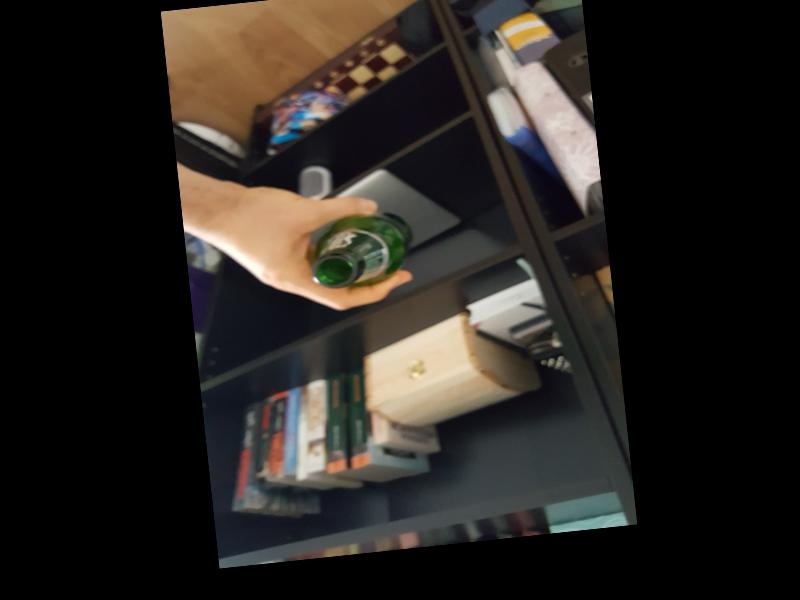Beer: (305, 205, 416, 289)
